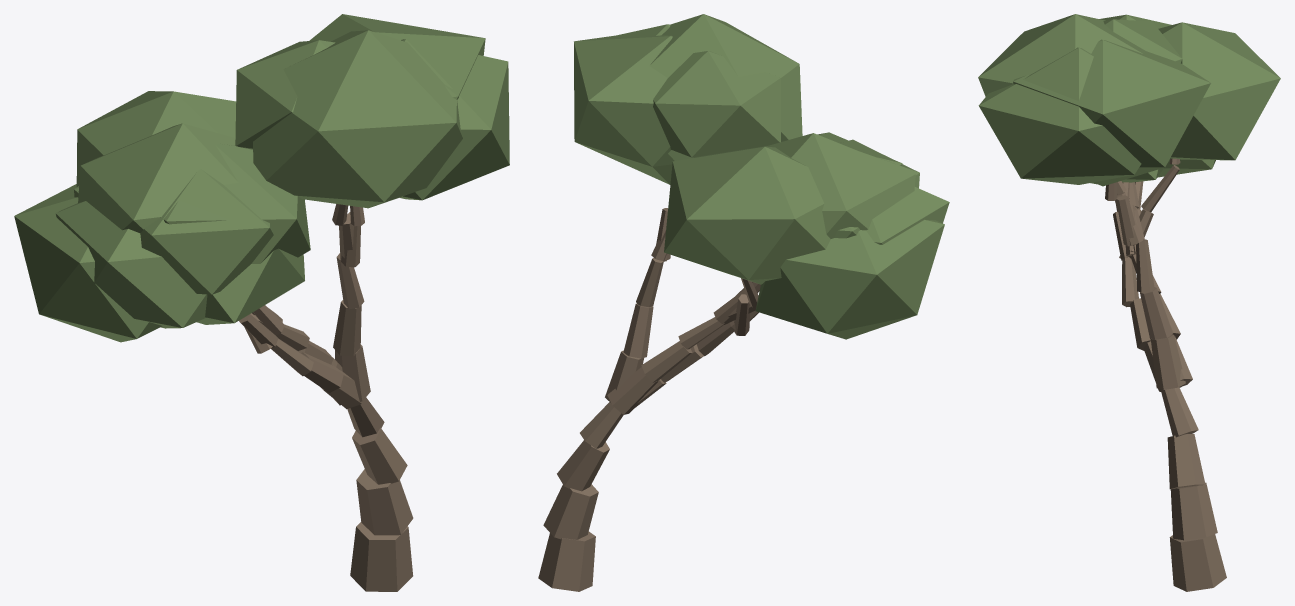
The model's file is oak.glb.
3 renders of one model, left to right at view 1: azimuth 30°, elevation 25°; view 2: azimuth 150°, elevation 25°; view 3: azimuth 270°, elevation 25°, orthographic. The views are drawn at different scales.
Parts seen in each view (by area): view 1: oak_leaf, oak_bark; view 2: oak_leaf, oak_bark; view 3: oak_leaf, oak_bark.
Part boxes in pixels (x1,y1,x2,y2): oak_leaf: (14, 14, 509, 342); oak_bark: (239, 204, 413, 591); oak_leaf: (574, 14, 949, 339); oak_bark: (538, 208, 760, 591); oak_leaf: (978, 14, 1280, 186); oak_bark: (1105, 158, 1226, 591).
Size of the model in its own units: 5.34 by 7.43 by 3.81.
